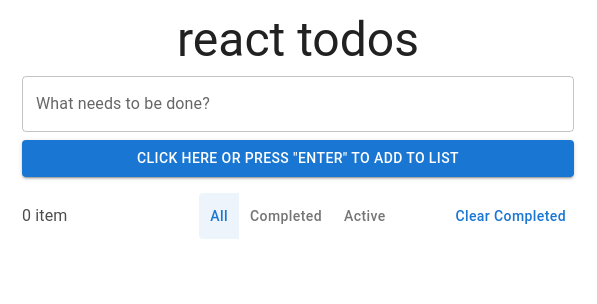
Scenario: App › should delete the task after clicking the delete button
Type "New Task333" into the field labelled "What needs to be done?" at (298, 104), box [22,76,574,132]
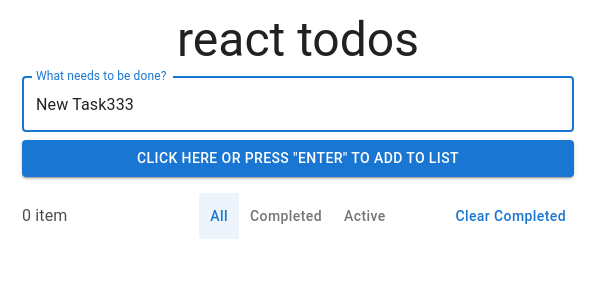
Click the button with aria-label "submitButton" at (298, 158), box [22,140,574,176]
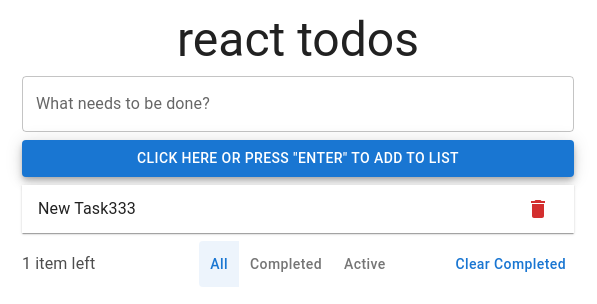
Now the number of elements named "todoItem" is 1, box [38,198,136,218]
Click the button named "deletebutton" at (538, 208), box [518,188,558,228]
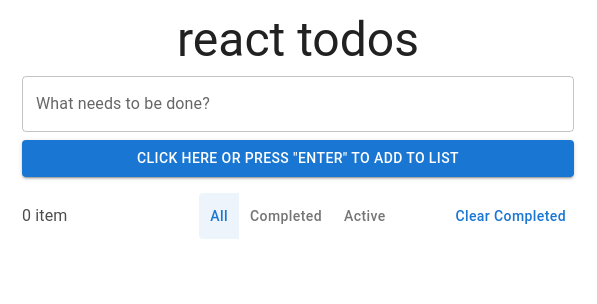
Now no fields labelled "todoItem" are shown
